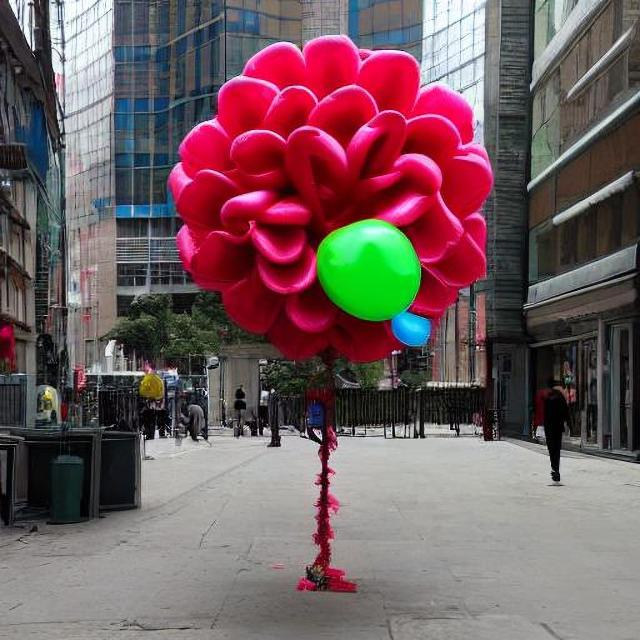balloon: (316, 217, 418, 318)
